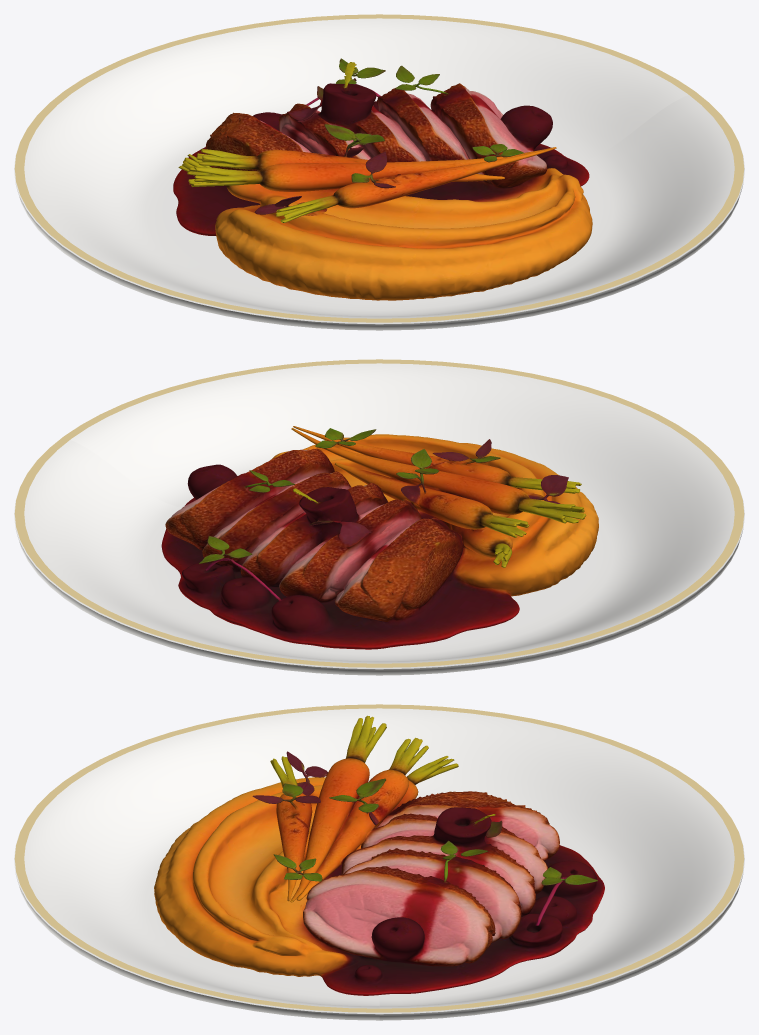
Rendered from magret.glb.
3 views of the same model, one above another, from view 1: azimuth 30°, elevation 25°; view 2: azimuth 150°, elevation 25°; view 3: azimuth 270°, elevation 25° (orthographic).
Visible parts, largest first — view 1: dish, tripo_node_c4b6ea13-7d84-4118-8be9-20379fc2f9ac; view 2: dish, tripo_node_c4b6ea13-7d84-4118-8be9-20379fc2f9ac; view 3: dish, tripo_node_c4b6ea13-7d84-4118-8be9-20379fc2f9ac.
Part boxes in pixels (left/top/right/bottom): dish: left=14, top=14, right=744, bottom=330; tripo_node_c4b6ea13-7d84-4118-8be9-20379fc2f9ac: left=173, top=58, right=592, bottom=300; dish: left=14, top=359, right=744, bottom=675; tripo_node_c4b6ea13-7d84-4118-8be9-20379fc2f9ac: left=161, top=426, right=598, bottom=649; dish: left=14, top=704, right=744, bottom=1020; tripo_node_c4b6ea13-7d84-4118-8be9-20379fc2f9ac: left=154, top=715, right=604, bottom=995.
Bounding box in the file's own units: 0.28 × 0.05 × 0.28.
4 materials, 1 textured.
